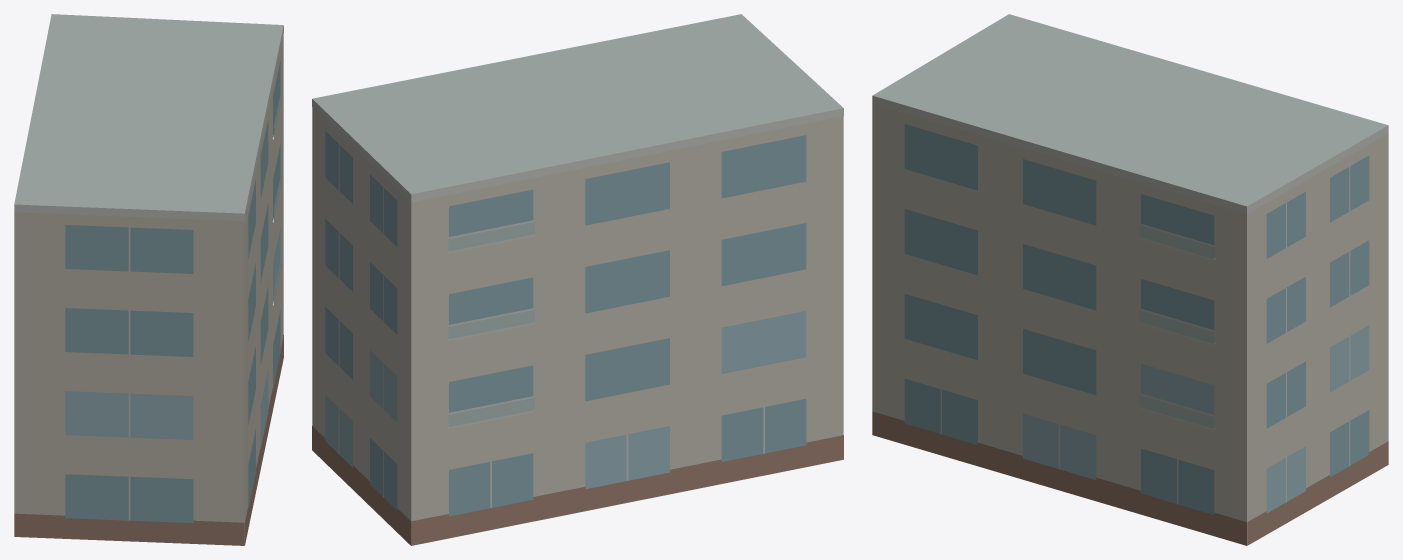
The model's file is survey-upis-32890679.glb.
The picture shows the model from 3 angles, left to right: view 1: azimuth 30°, elevation 25°; view 2: azimuth 150°, elevation 25°; view 3: azimuth 270°, elevation 25°; orthographic projection. The views are drawn at different scales.
Parts seen in each view (by area): view 1: survey-upis-32890679.tmp; view 2: survey-upis-32890679.tmp; view 3: survey-upis-32890679.tmp.
Boxes of the visible parts, x1,y1,x2,y2 form: survey-upis-32890679.tmp: (14, 14, 283, 545); survey-upis-32890679.tmp: (312, 14, 843, 545); survey-upis-32890679.tmp: (872, 14, 1388, 545).
Size of the model in its own units: 12.9 by 10.6 by 14.62.
